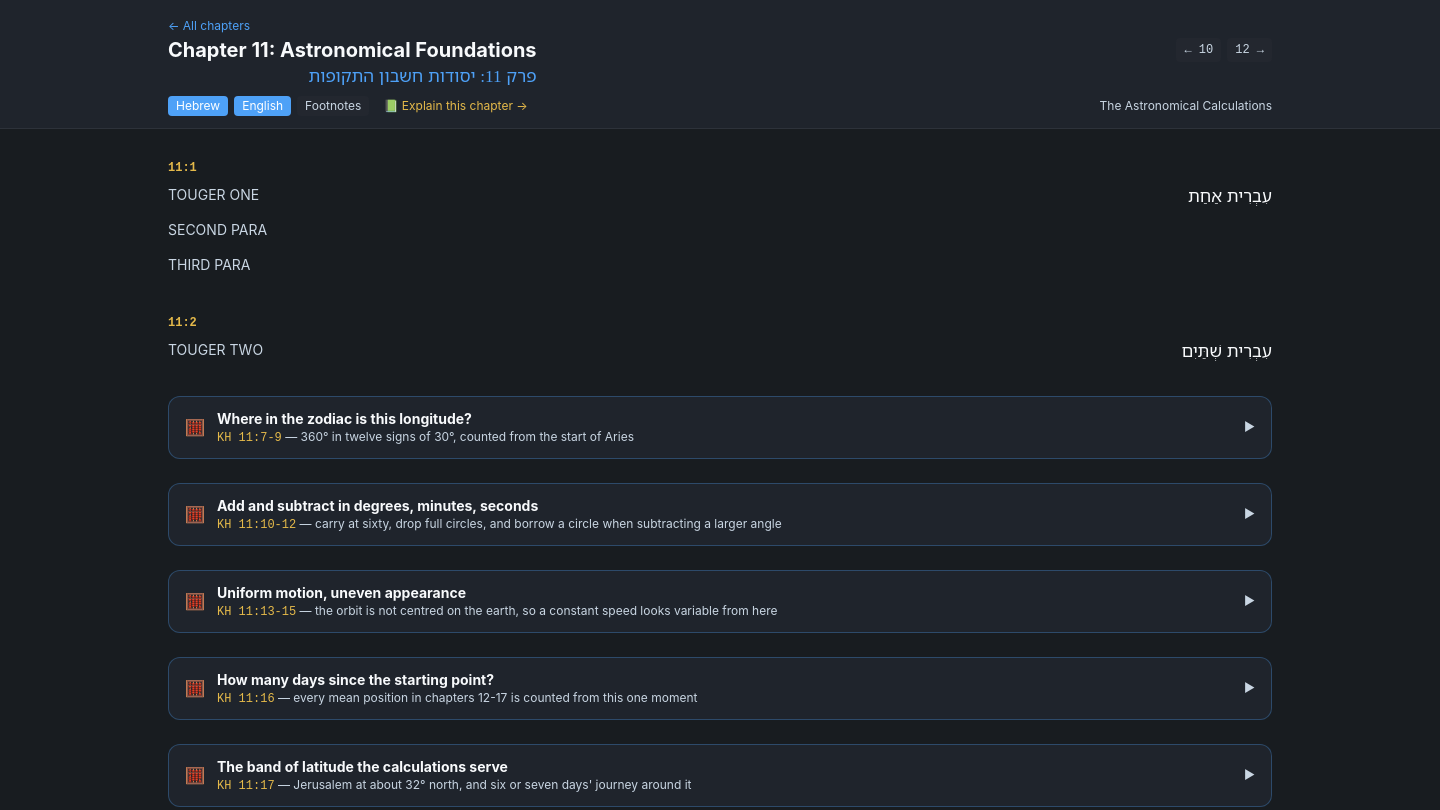
Test: TextChapter › shows the Rambam's own KH 11:12 answer once the calculator is opened
Click the button "Add and subtract in degrees" at [720, 514], box [169,484,1271,545]
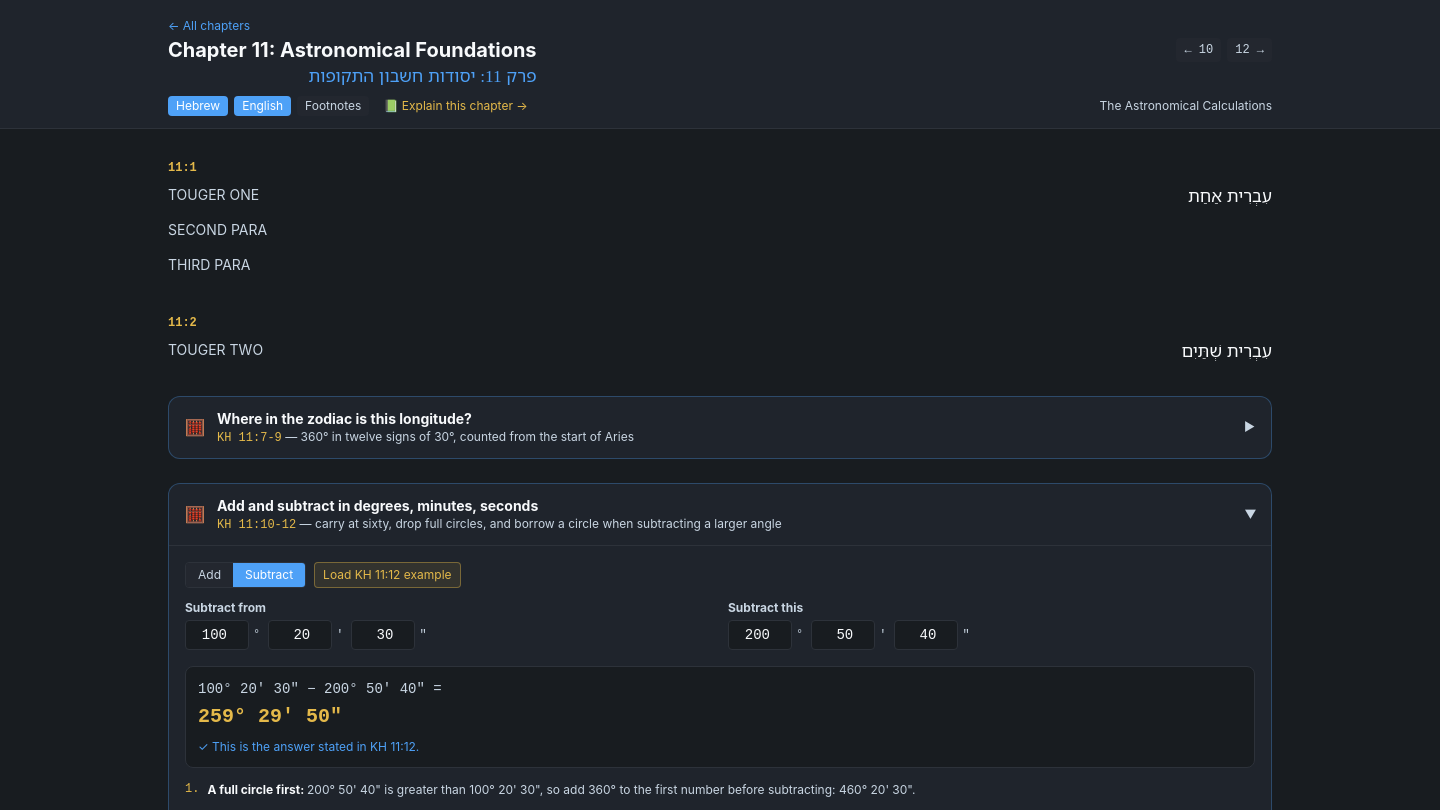
Expected: the text "259° 29' 50\"" is shown, [198,705,342,728]
Expected: the text "✓ This is the answer stated in KH 11:12." is shown, [198,739,419,754]
